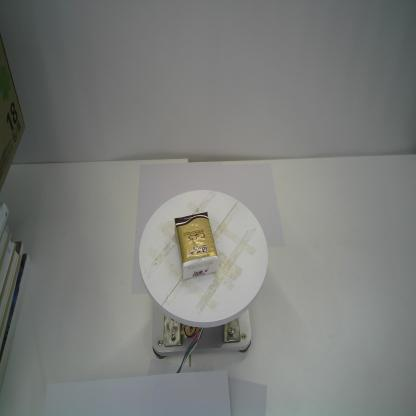Tissue: (174, 210, 220, 280)
